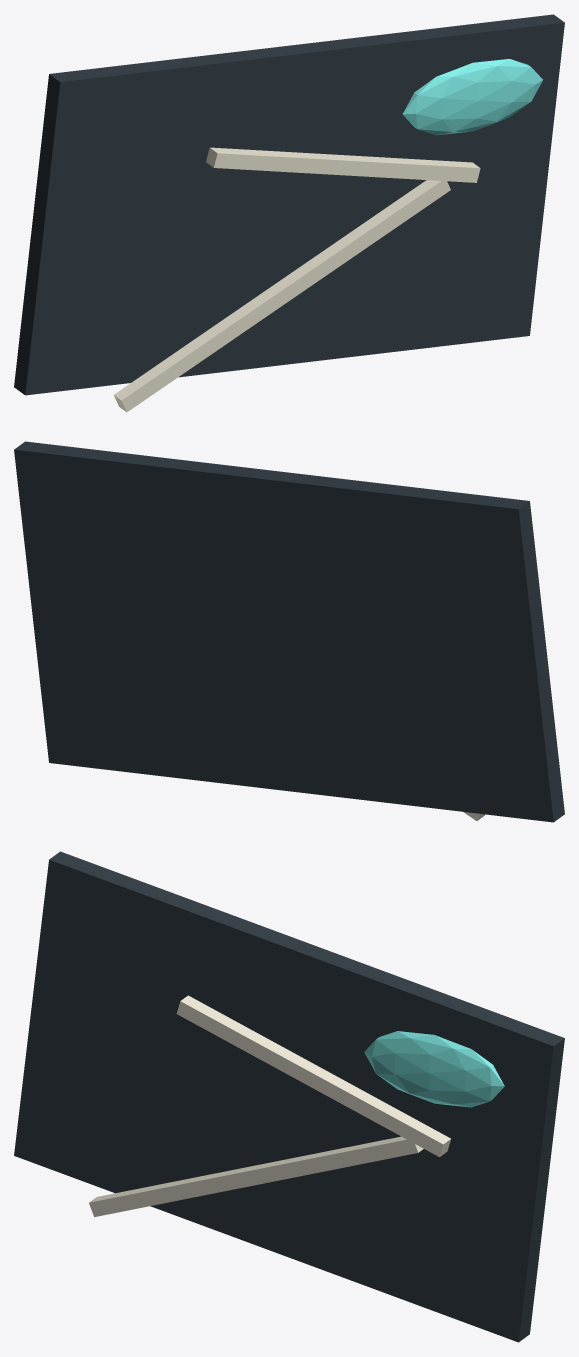
File: 02_weathering_wear_overlay_2.glb
3 views of the same model, one above another, from view 1: azimuth 30°, elevation 25°; view 2: azimuth 150°, elevation 25°; view 3: azimuth 330°, elevation 25° (orthographic).
Visible parts, largest first — view 1: wear_plate, scratch_a, rust_or_moss_spot, scratch_b; view 2: wear_plate; view 3: wear_plate, rust_or_moss_spot, scratch_b, scratch_a.
Boxes of the visible parts, bbox=[...] form: wear_plate: bbox=[14, 14, 564, 395]; scratch_a: bbox=[114, 180, 450, 412]; rust_or_moss_spot: bbox=[402, 59, 542, 135]; scratch_b: bbox=[206, 147, 480, 182]; wear_plate: bbox=[14, 441, 564, 822]; wear_plate: bbox=[14, 851, 564, 1342]; rust_or_moss_spot: bbox=[364, 1031, 504, 1107]; scratch_b: bbox=[176, 995, 450, 1157]; scratch_a: bbox=[89, 1136, 423, 1217].
Size of the model in its own units: 1.38 by 0.9 by 0.134.
